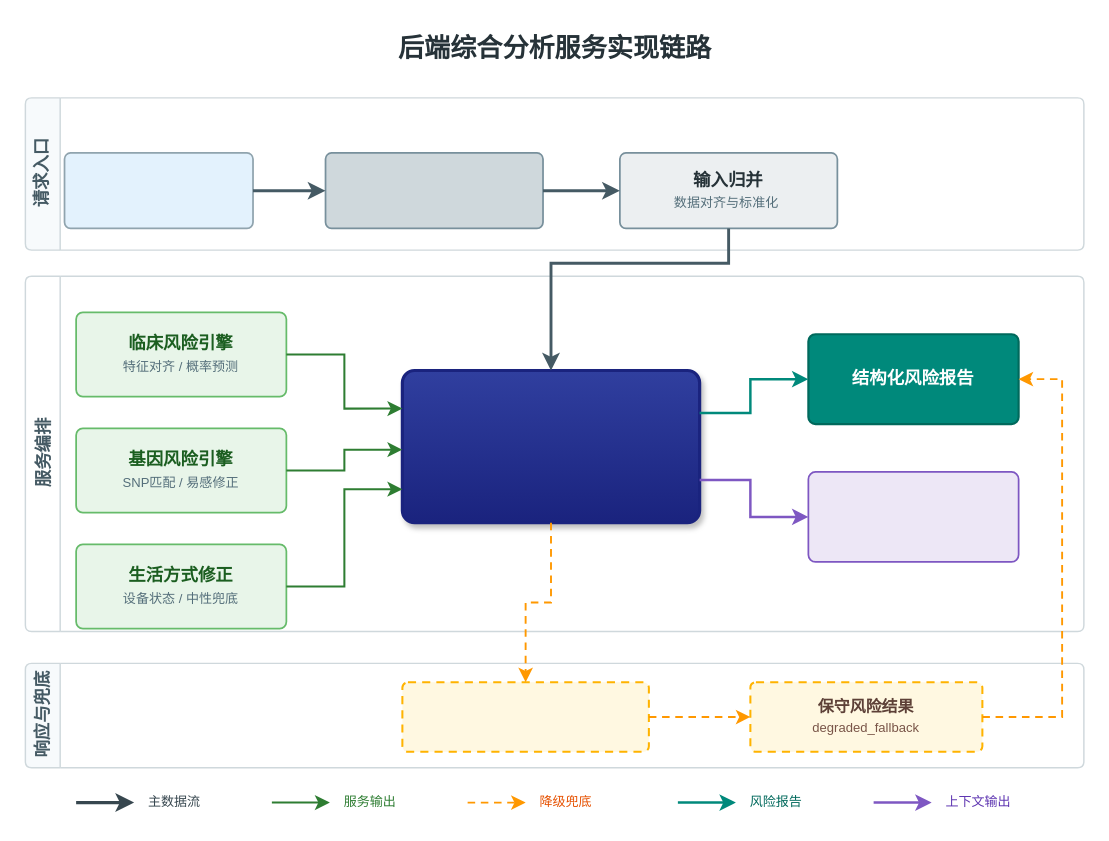
Image size: 1109x841. Some labels were removed from this diagram. The shapes that lost their labels are listed below. From the top down, each one's centre as x and y in pixels, then its label:
At [158,190]: "前端触发 画像更新 / 报告刷新".
At [433,190]: "综合分析接口 POST /analyze/comprehensive".
At [551,448]: "综合分析编排中枢 ★ 融合优先 / 降级可返回".
At [913,516]: "分析上下文".
At [525,716]: "模型或融合不可用 降级分支".
